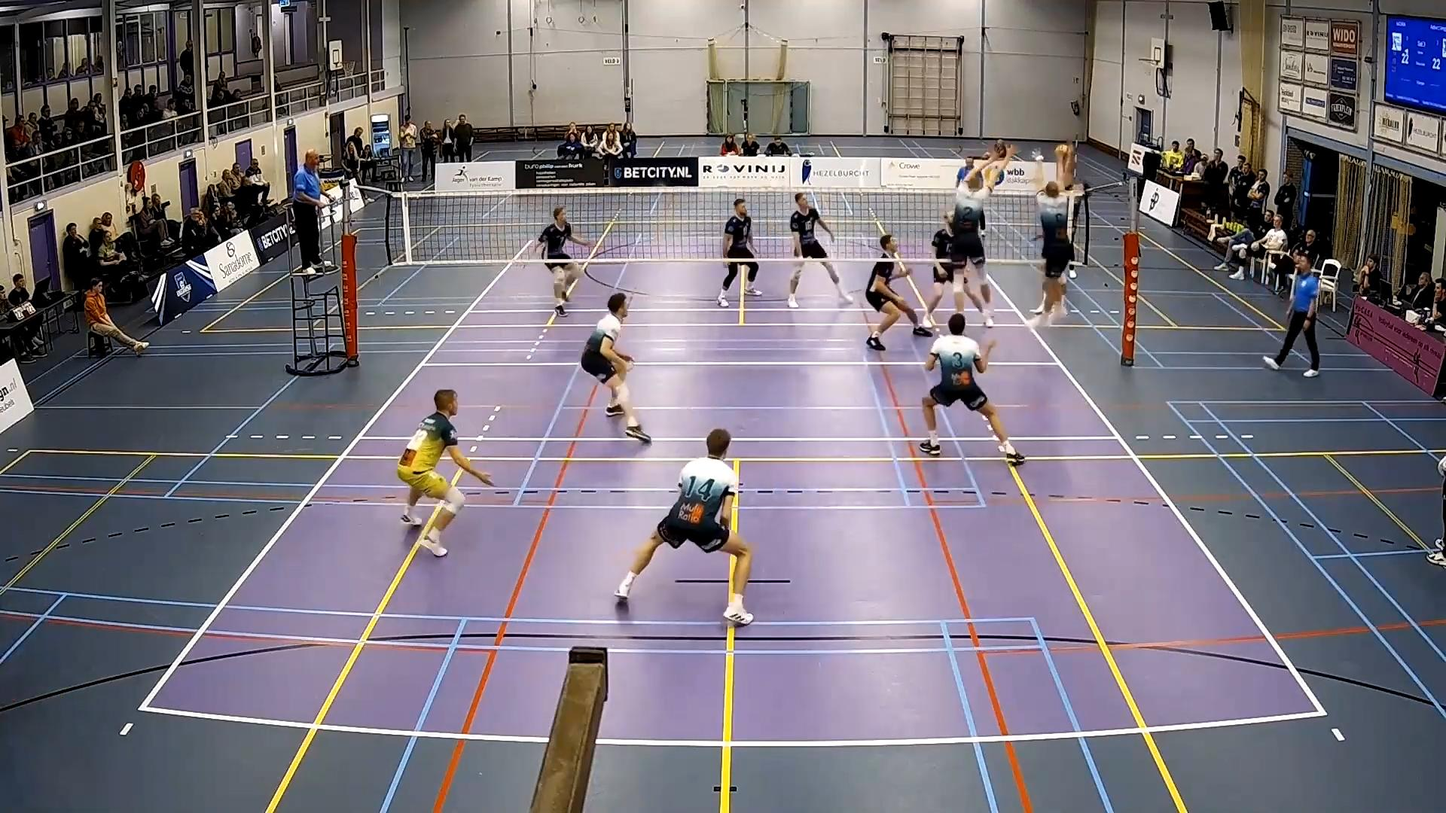attacco: (1046, 139, 1090, 323)
muro: (941, 145, 1011, 326), (1021, 149, 1090, 330)
